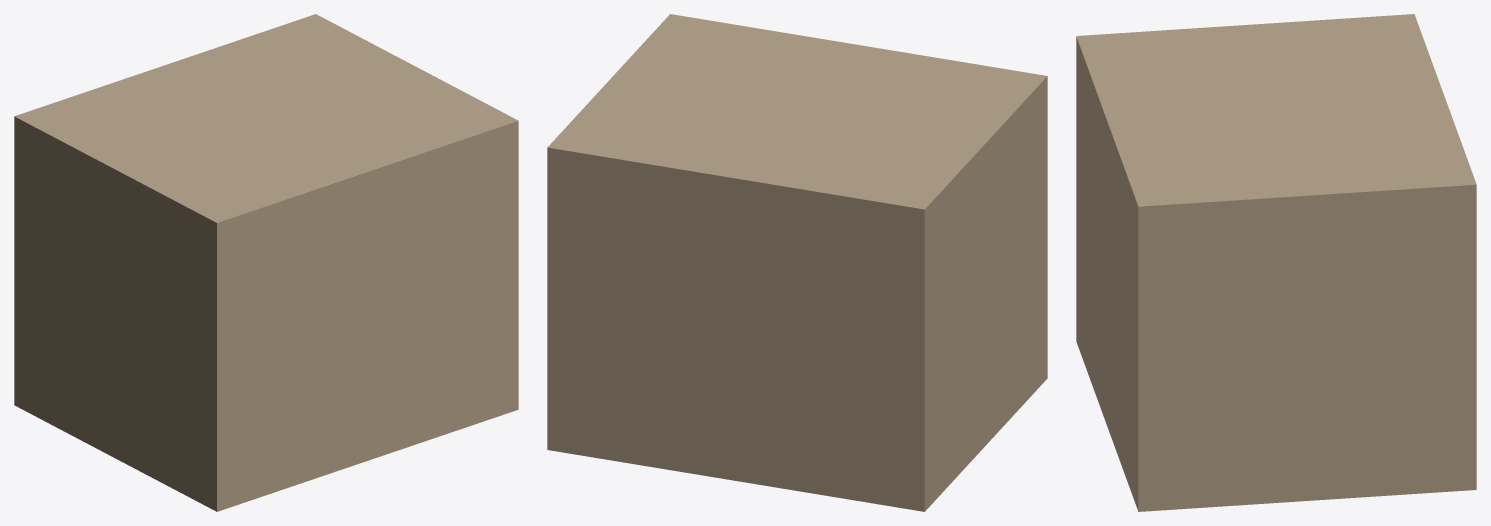
The model's file is bld_107638958.dae.
3 renders of one model, left to right at view 1: azimuth 30°, elevation 25°; view 2: azimuth 150°, elevation 25°; view 3: azimuth 270°, elevation 25°, orthographic. The views are drawn at different scales.
Parts seen in each view (by area): view 1: bld_107638958; view 2: bld_107638958; view 3: bld_107638958.
Part boxes in pixels (bbox=[...]): bld_107638958: bbox=[14, 14, 518, 511]; bld_107638958: bbox=[547, 14, 1047, 511]; bld_107638958: bbox=[1076, 14, 1476, 511].
Size of the model in its own units: 10.83 by 9.51 by 8.
